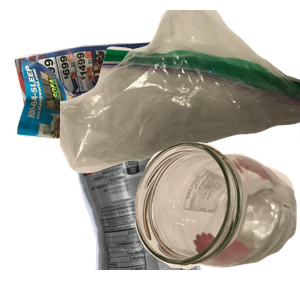glass: (132, 139, 300, 300)
paper: (12, 31, 196, 204)
plastic: (71, 120, 265, 300)
trash: (60, 10, 300, 176)
